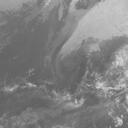cyclone: (40, 40, 93, 102)
